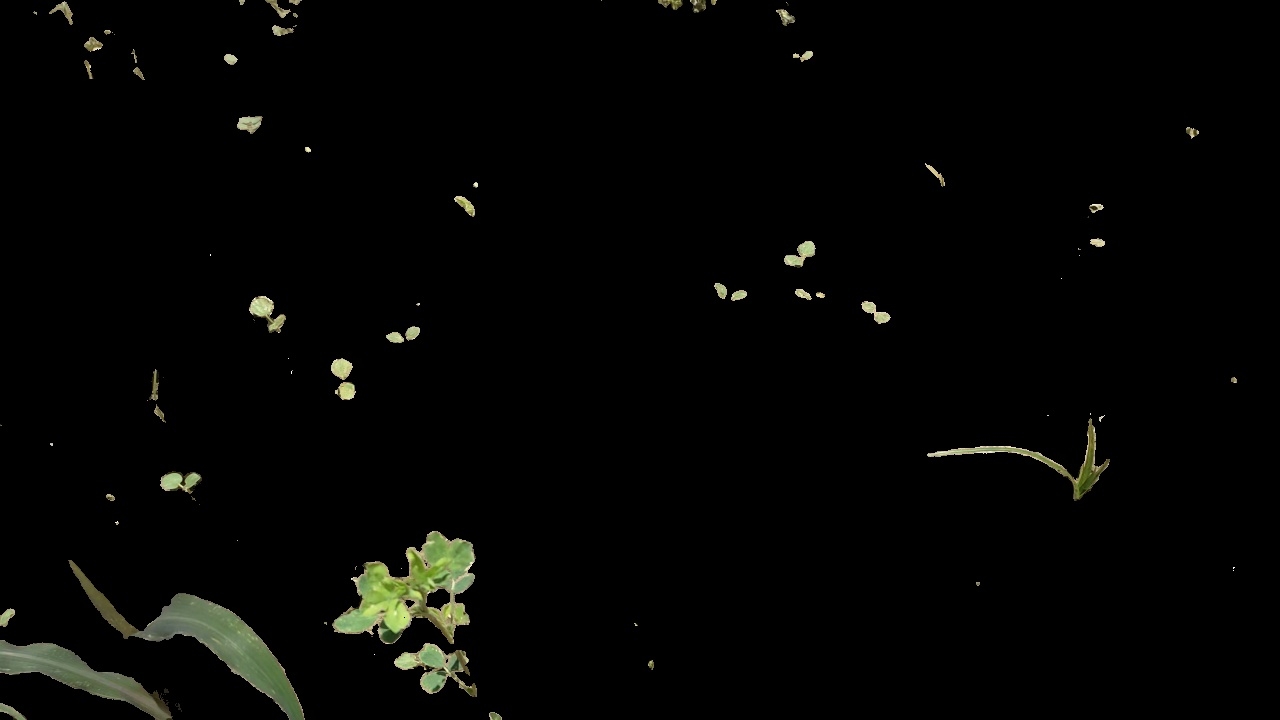crop: (67, 551, 313, 720)
weed: (327, 532, 500, 705), (924, 413, 1110, 501), (244, 295, 290, 332), (159, 469, 209, 503), (327, 354, 363, 399), (777, 231, 822, 266), (379, 323, 423, 346), (712, 272, 747, 300), (860, 295, 892, 324), (231, 112, 271, 133), (768, 1, 801, 26), (788, 49, 824, 67)
